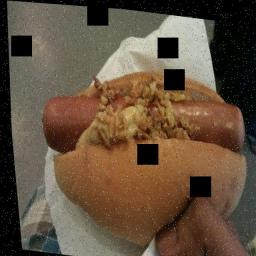hotdog: (34, 78, 248, 173)
